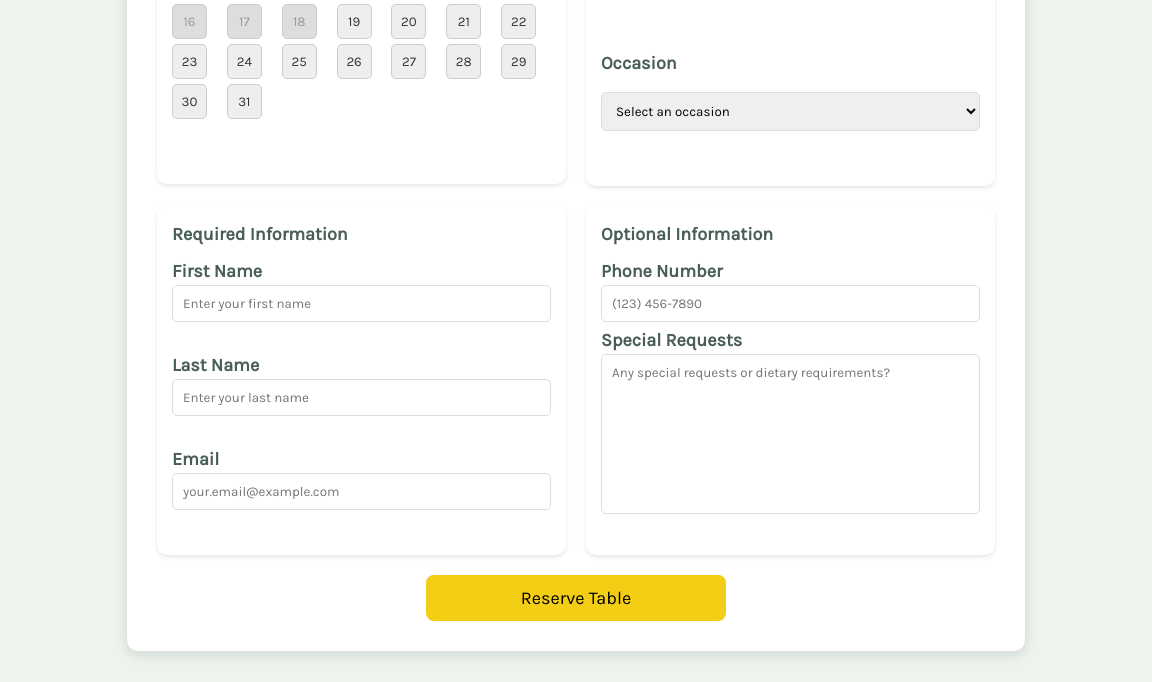
Test: Form Component › shows error messages on invalid submission
(page scrolled)
Note: Attempt to submit without filling required fields
Click the button with aria-label "Submit reservation request": (576, 598) [426,575,726,621]
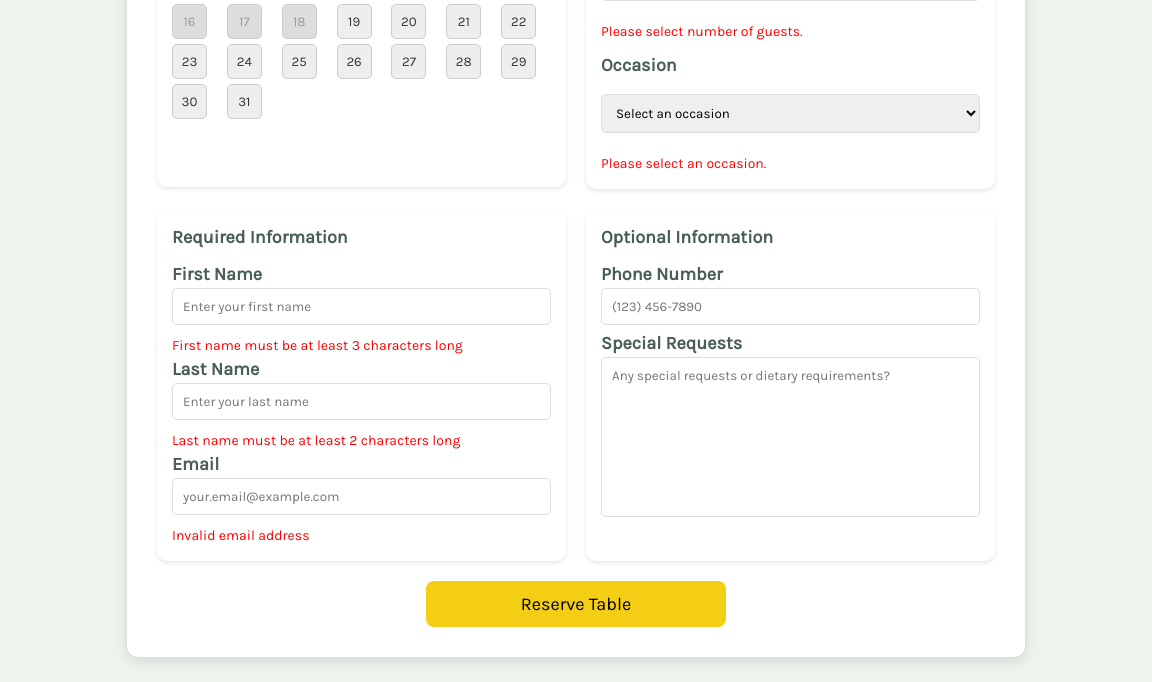
expect the text "First name must be at least 3 characters long" is shown: met, box [172,337,463,354]
expect the text "Last name must be at least 2 characters long" is shown: met, box [172,432,460,449]
expect the text "Invalid email address" is shown: met, box [172,527,310,544]
